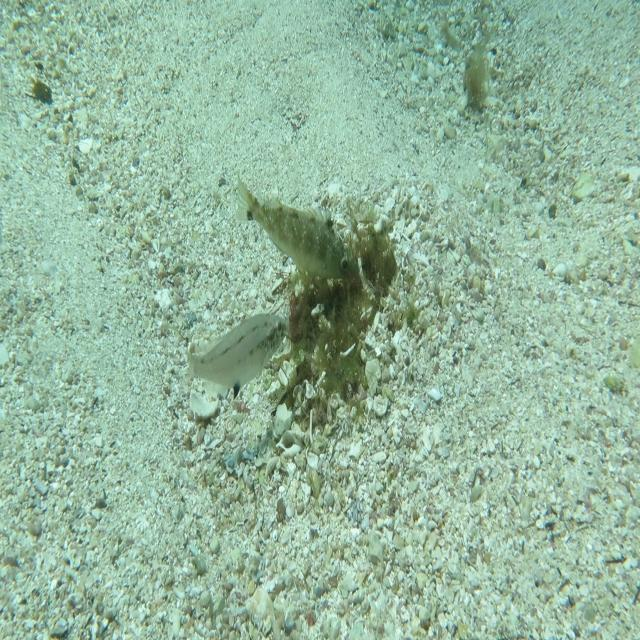INSF: (236, 170, 362, 284)
female: (184, 310, 290, 402)
nest: (279, 200, 416, 438)
